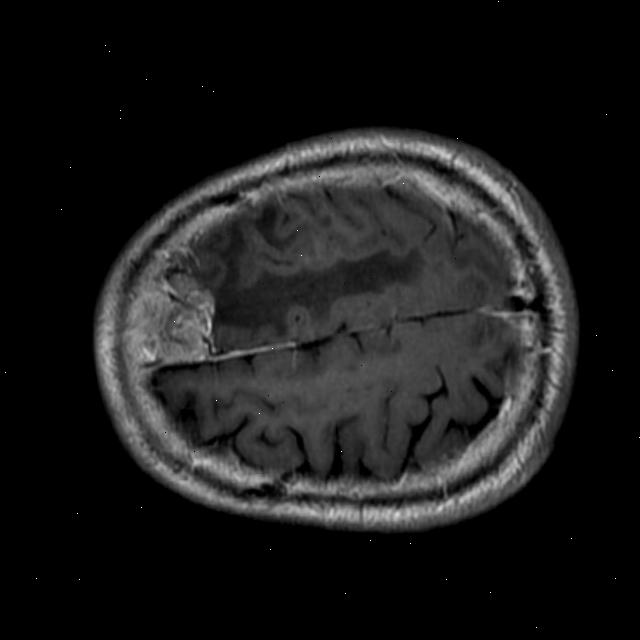Meningioma: (124, 262, 219, 366)
